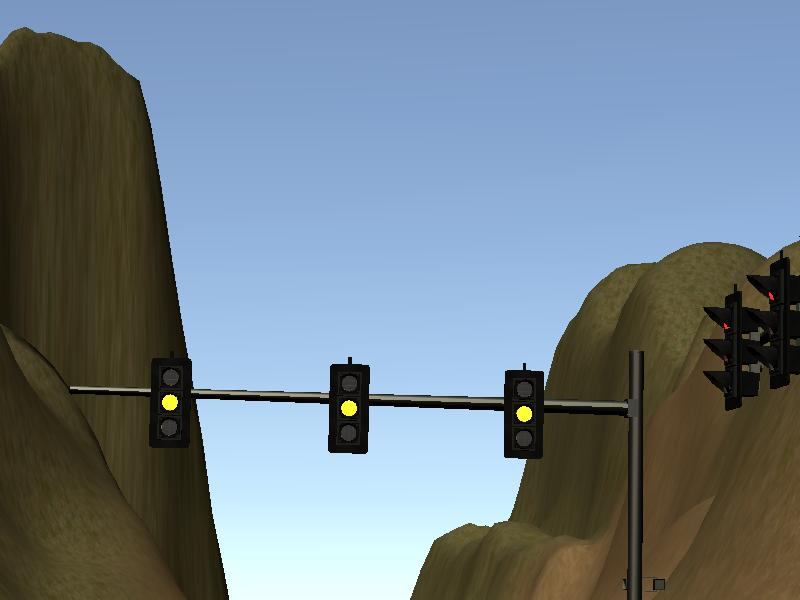not_red: (505, 369, 545, 458), (151, 357, 190, 447), (329, 364, 367, 454)
